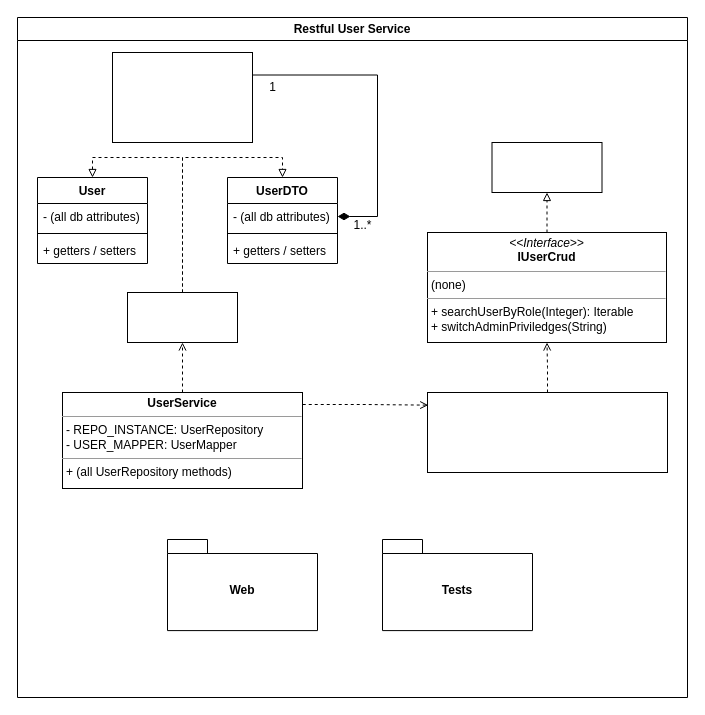
This 705x715 diagram has some shape labels left out. The centre of each missing label's shape, as x and y in pixels:
"<<Enum>> UserRole id: Integer + getValue(): Integer" belongs at point (182, 97).
"UserRepository - USER_CRUD: IUserCrud + (all IUserCrud methods)" belongs at point (547, 432).
"«interface» CrudRepository" belongs at point (546, 167).
"«interface» UserMapper" belongs at point (182, 317).
